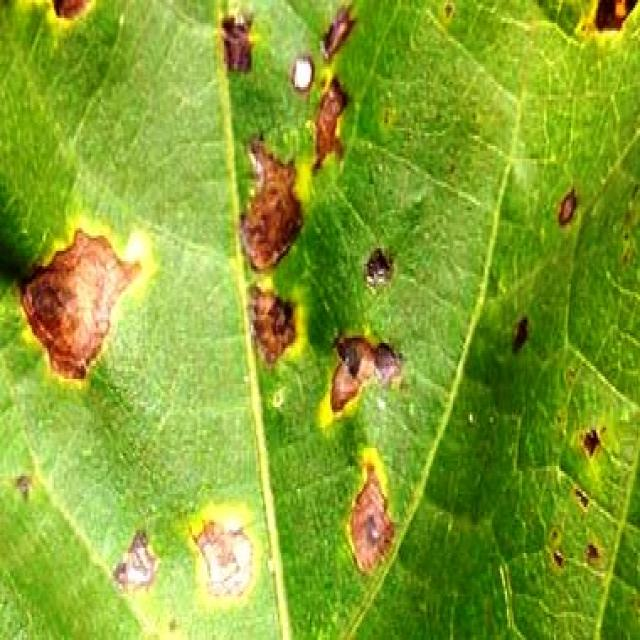Bacterial Blight: (192, 6, 422, 587)
